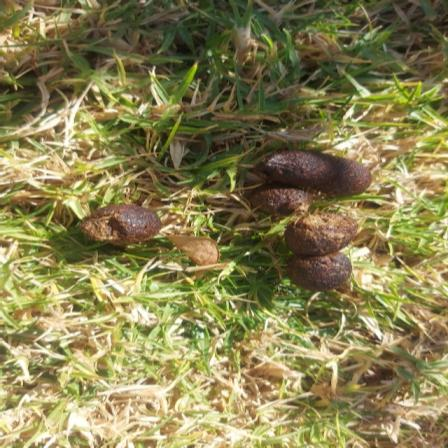dog-poop: (241, 137, 371, 285), (92, 188, 168, 242)
